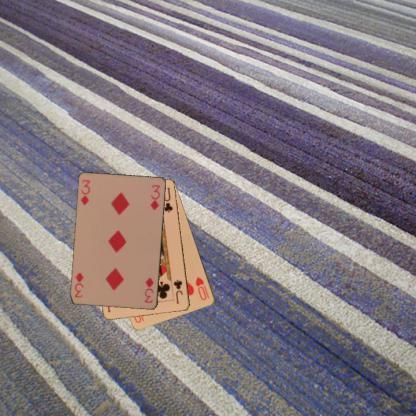10h: (192, 274, 210, 302)
3d: (78, 177, 92, 207), (142, 275, 155, 304)
Jc: (172, 277, 184, 304)
